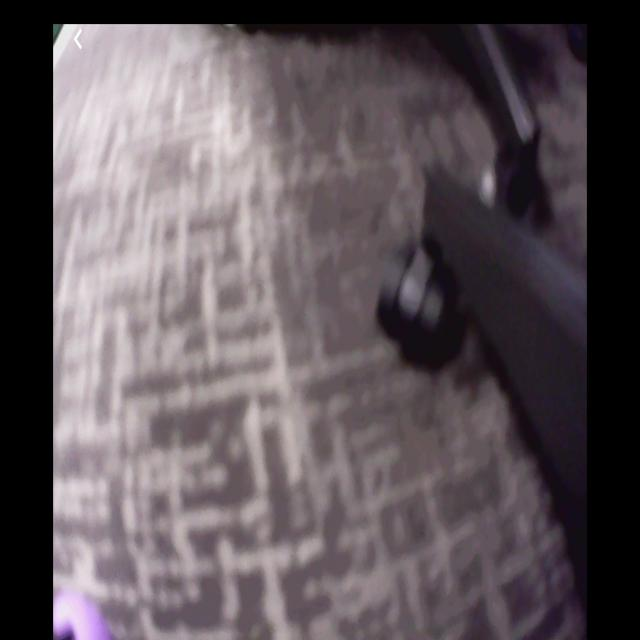ball: (54, 593, 114, 640)
